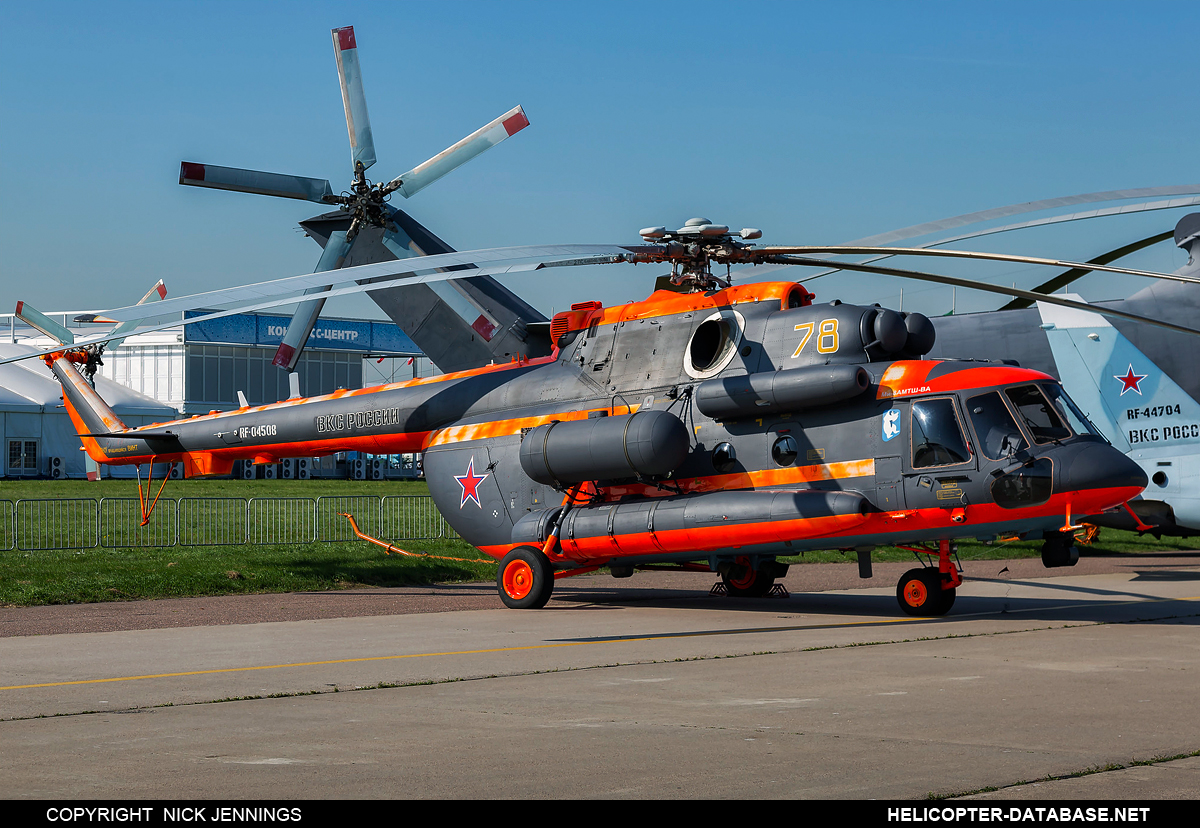number: (784, 316, 843, 361), (237, 422, 283, 440)
